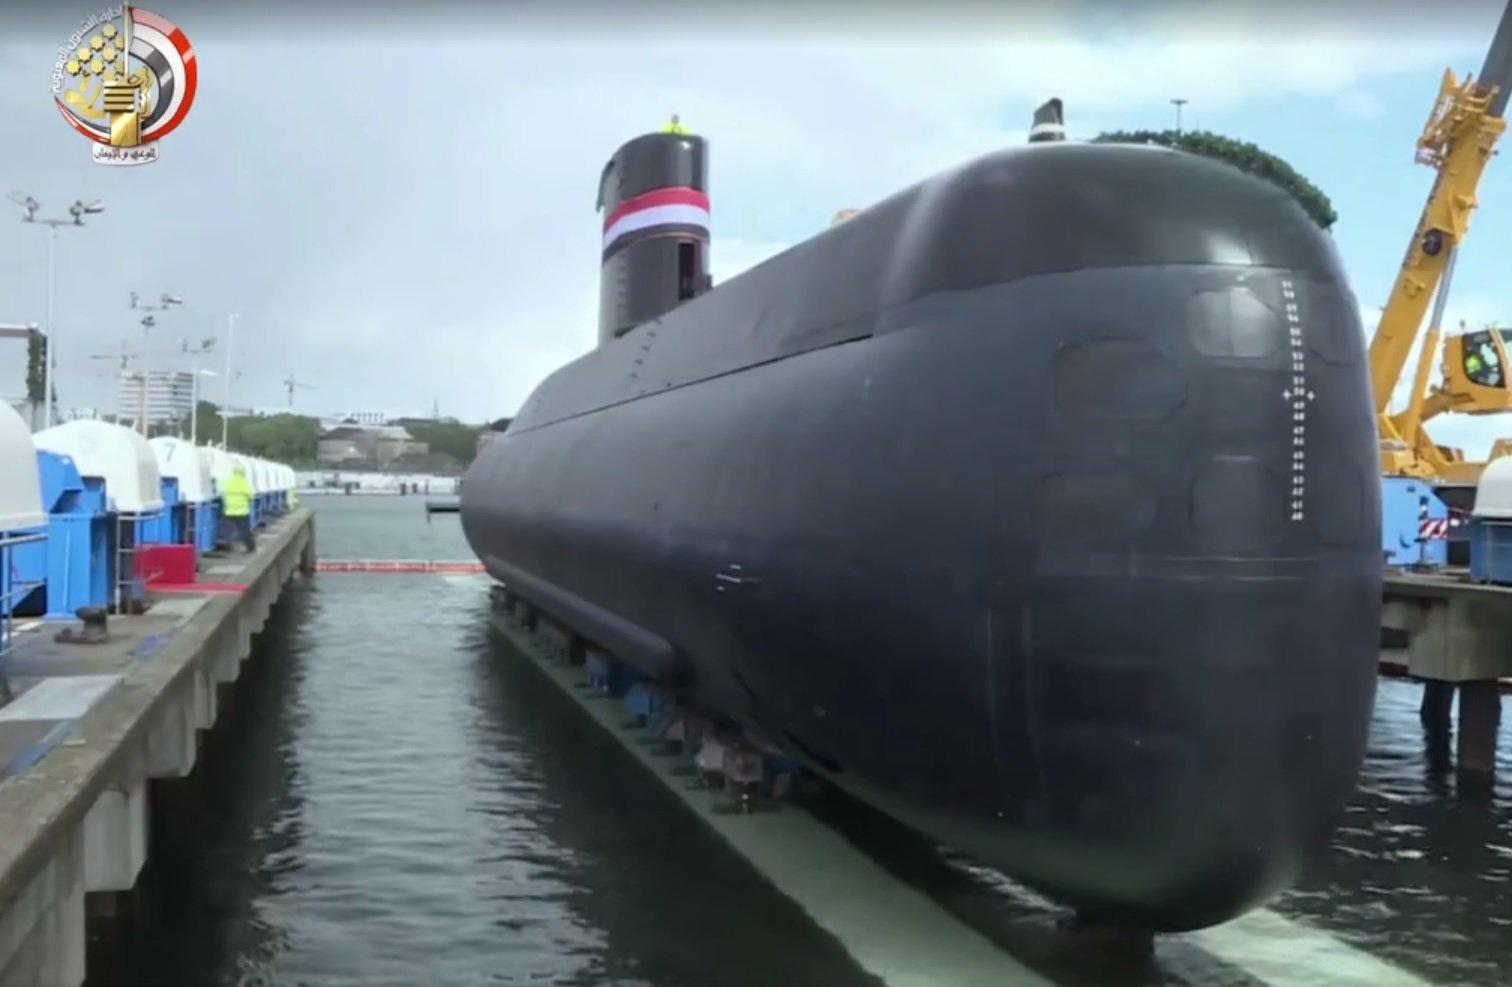Submarine: (325, 43, 1427, 987)
